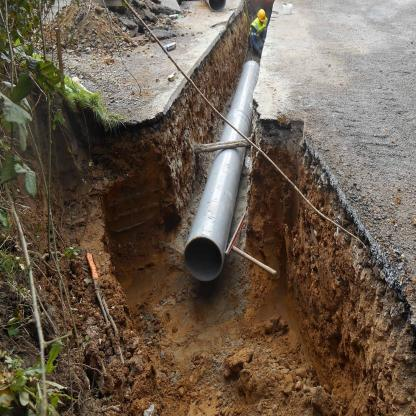PVC: (182, 61, 259, 284)
